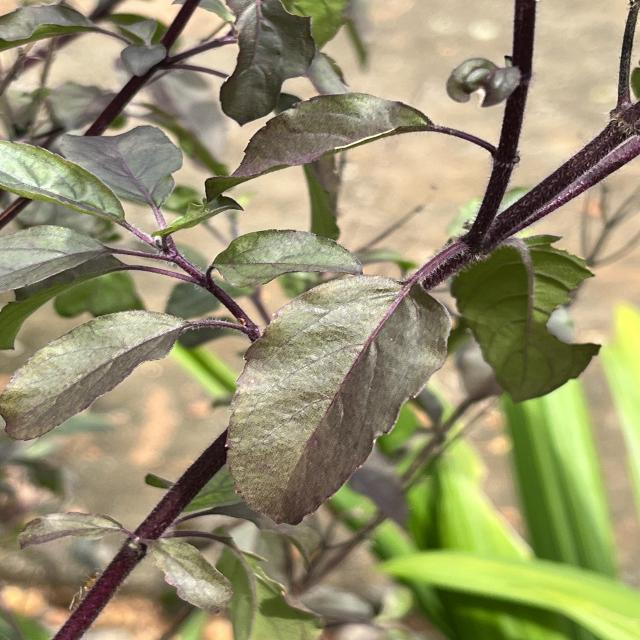Ocimum tenuiflorum: (224, 272, 453, 529)
